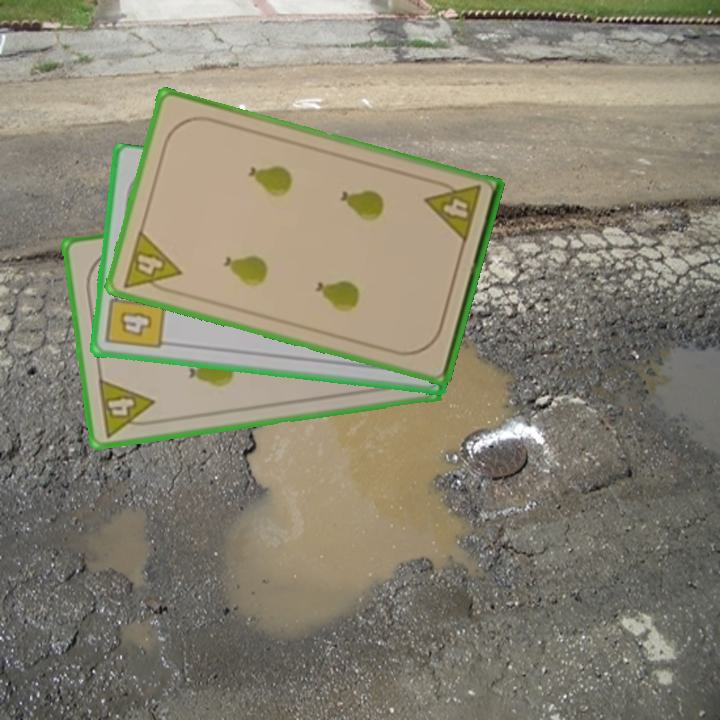4b: (102, 285, 168, 352)
4p: (119, 226, 184, 298), (421, 176, 484, 246), (94, 375, 160, 440)
